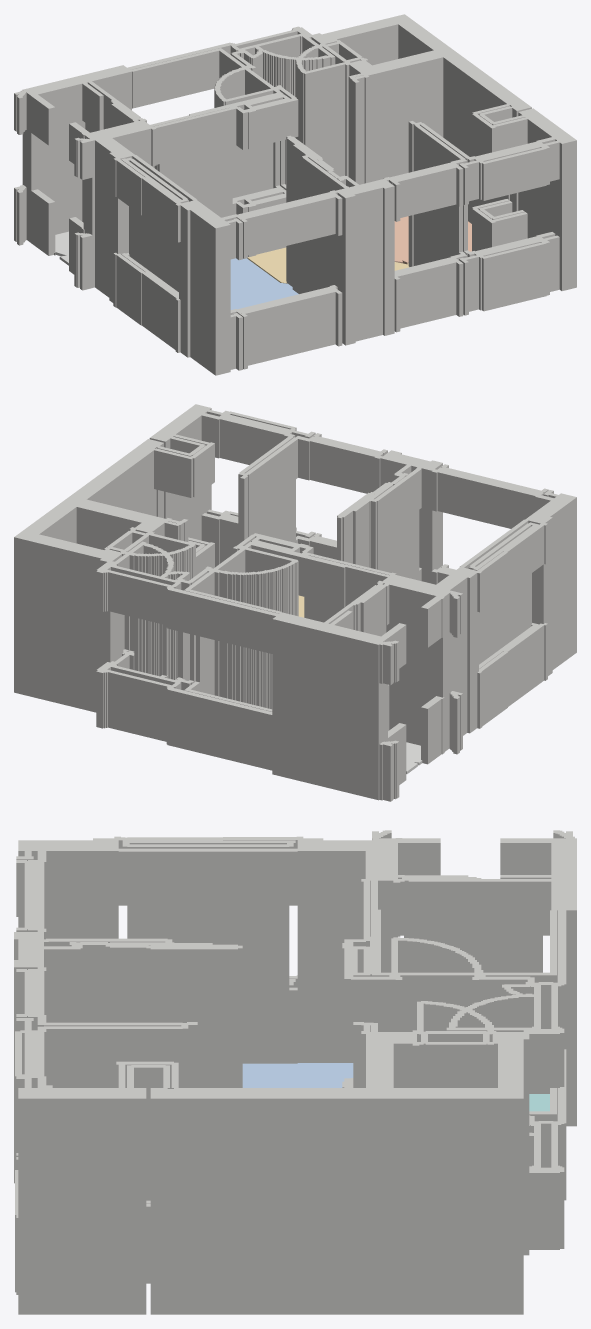
The picture shows the model from 3 angles, top to bottom: view 1: azimuth 30°, elevation 25°; view 2: azimuth 150°, elevation 25°; view 3: azimuth 270°, elevation 25°; orthographic projection. The views are drawn at different scales.
Visible parts, largest first — view 1: walls, room:bedroom:2, room:living:4, room:kitchen:5; view 2: walls; view 3: walls, room:bedroom:2.
Boxes of the visible parts, x1,y1,x2,y2 form: walls: (14, 14, 576, 375); room:bedroom:2: (230, 258, 298, 309); room:living:4: (247, 247, 409, 283); room:kitchen:5: (394, 216, 471, 264); walls: (14, 404, 576, 801); walls: (14, 830, 576, 1314); room:bedroom:2: (242, 1063, 353, 1087).
Bounding box in the file's own units: 7.47 × 2.8 × 6.62.
